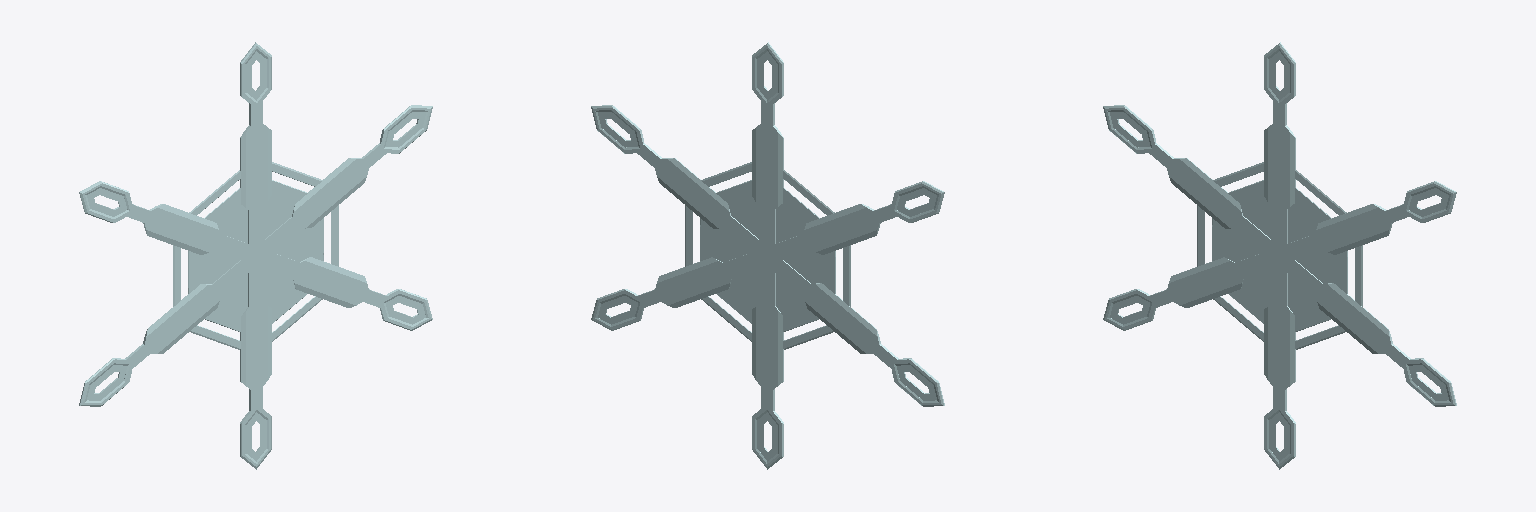
Rendered from snowflake.3.obj.
The picture shows the model from 3 angles: view 1: azimuth 30°, elevation 25°; view 2: azimuth 150°, elevation 25°; view 3: azimuth 330°, elevation 25°; orthographic projection.
Visible parts, largest first — view 1: Pattern\Pattern\Component1\Solid (12), Pattern\Pattern\Component1\Solid (11), Pattern\Pattern\Component1\Solid (9), Pattern\Pattern\Component1\Solid (7), Pattern\Pattern\Component1\Solid (10), Pattern\Pattern\Component1\Solid (8); view 2: Pattern\Pattern\Component1\Solid (6), Pattern\Pattern\Component1\Solid (3), Pattern\Pattern\Component1\Solid (2), Pattern\Pattern\Component1\Solid (5), Pattern\Pattern\Component1\Solid (4), Pattern\Pattern\Component1\Solid; view 3: Pattern\Pattern\Component1\Solid (9), Pattern\Pattern\Component1\Solid (12), Pattern\Pattern\Component1\Solid (11), Pattern\Pattern\Component1\Solid (8), Pattern\Pattern\Component1\Solid (7), Pattern\Pattern\Component1\Solid (10).
Part boxes in pixels (left/top/right/bottom): Pattern\Pattern\Component1\Solid (12): left=189, top=43, right=271, bottom=255; Pattern\Pattern\Component1\Solid (11): left=79, top=181, right=260, bottom=306; Pattern\Pattern\Component1\Solid (9): left=240, top=257, right=322, bottom=469; Pattern\Pattern\Component1\Solid (7): left=257, top=105, right=432, bottom=261; Pattern\Pattern\Component1\Solid (10): left=79, top=252, right=251, bottom=406; Pattern\Pattern\Component1\Solid (8): left=257, top=205, right=432, bottom=330; Pattern\Pattern\Component1\Solid (6): left=752, top=255, right=833, bottom=469; Pattern\Pattern\Component1\Solid (3): left=701, top=43, right=783, bottom=257; Pattern\Pattern\Component1\Solid (2): left=591, top=105, right=765, bottom=266; Pattern\Pattern\Component1\Solid (5): left=770, top=245, right=944, bottom=406; Pattern\Pattern\Component1\Solid (4): left=767, top=170, right=944, bottom=261; Pattern\Pattern\Component1\Solid: left=591, top=253, right=758, bottom=341; Pattern\Pattern\Component1\Solid (9): left=1264, top=255, right=1345, bottom=469; Pattern\Pattern\Component1\Solid (12): left=1213, top=43, right=1295, bottom=257; Pattern\Pattern\Component1\Solid (11): left=1103, top=105, right=1277, bottom=266; Pattern\Pattern\Component1\Solid (8): left=1282, top=245, right=1456, bottom=406; Pattern\Pattern\Component1\Solid (7): left=1279, top=170, right=1456, bottom=261; Pattern\Pattern\Component1\Solid (10): left=1103, top=253, right=1270, bottom=341.
Size of the model in its own units: 45.03 by 52 by 0.36.